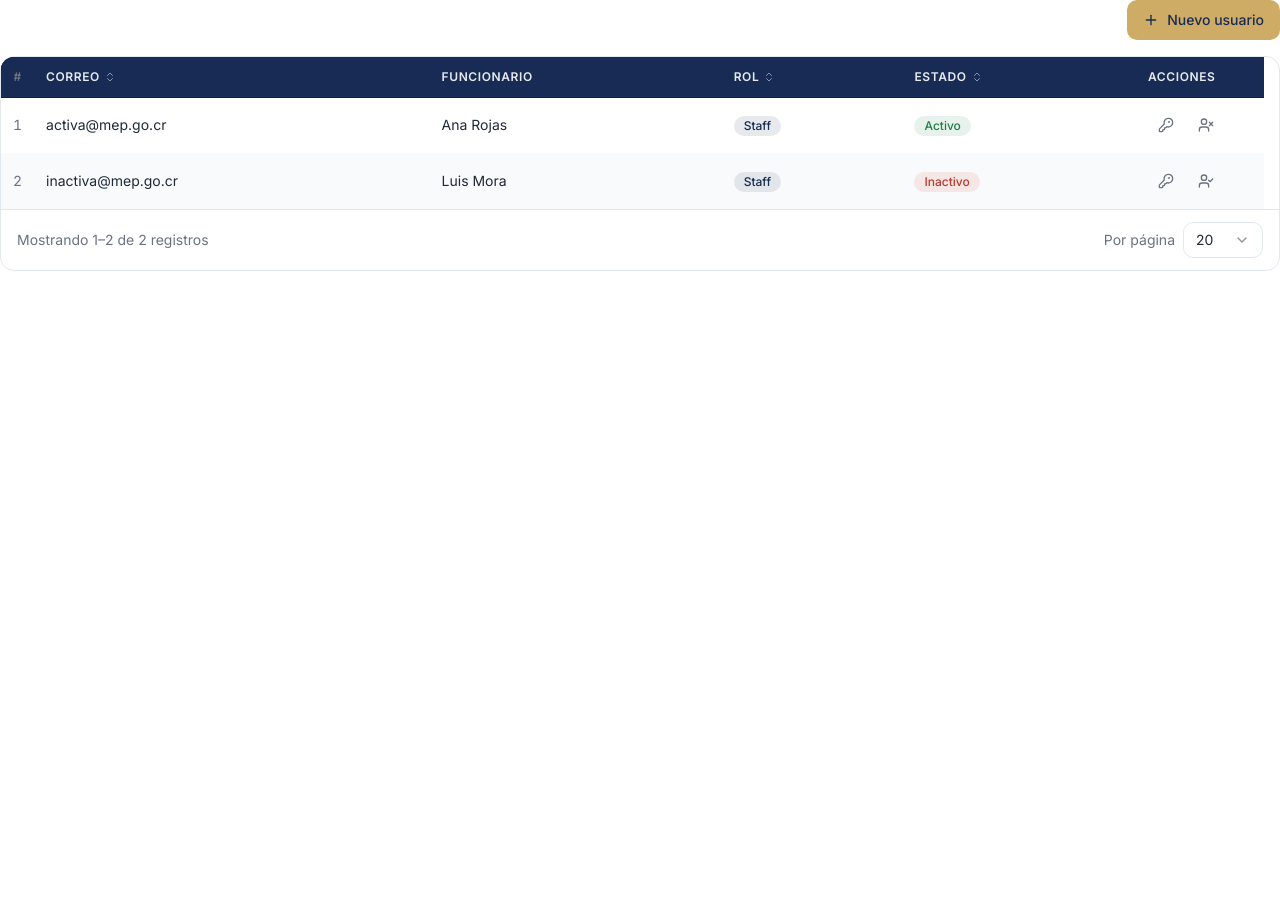
Test: Pantalla de usuarios — restablecer contraseña › muestra en el modal el error de la API
The image size is (1280, 900).
Click the button named "Restablecer contraseña" in the row of "Ana Rojas": point(1166, 125) [1148, 107, 1184, 143]
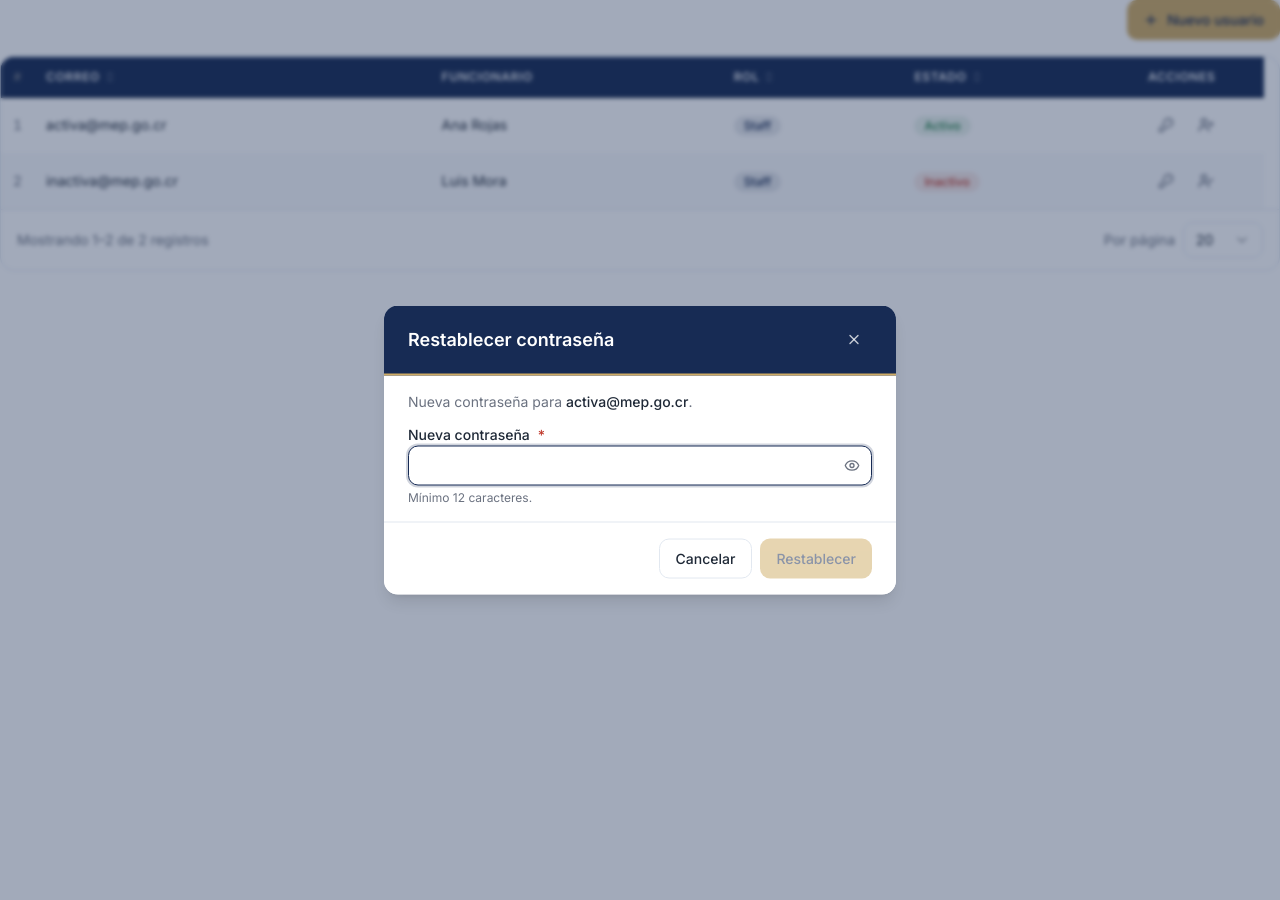
In the password field labelled "Nueva contraseña *": point(640, 466) [408, 446, 872, 486], type "corta"
Then press Enter
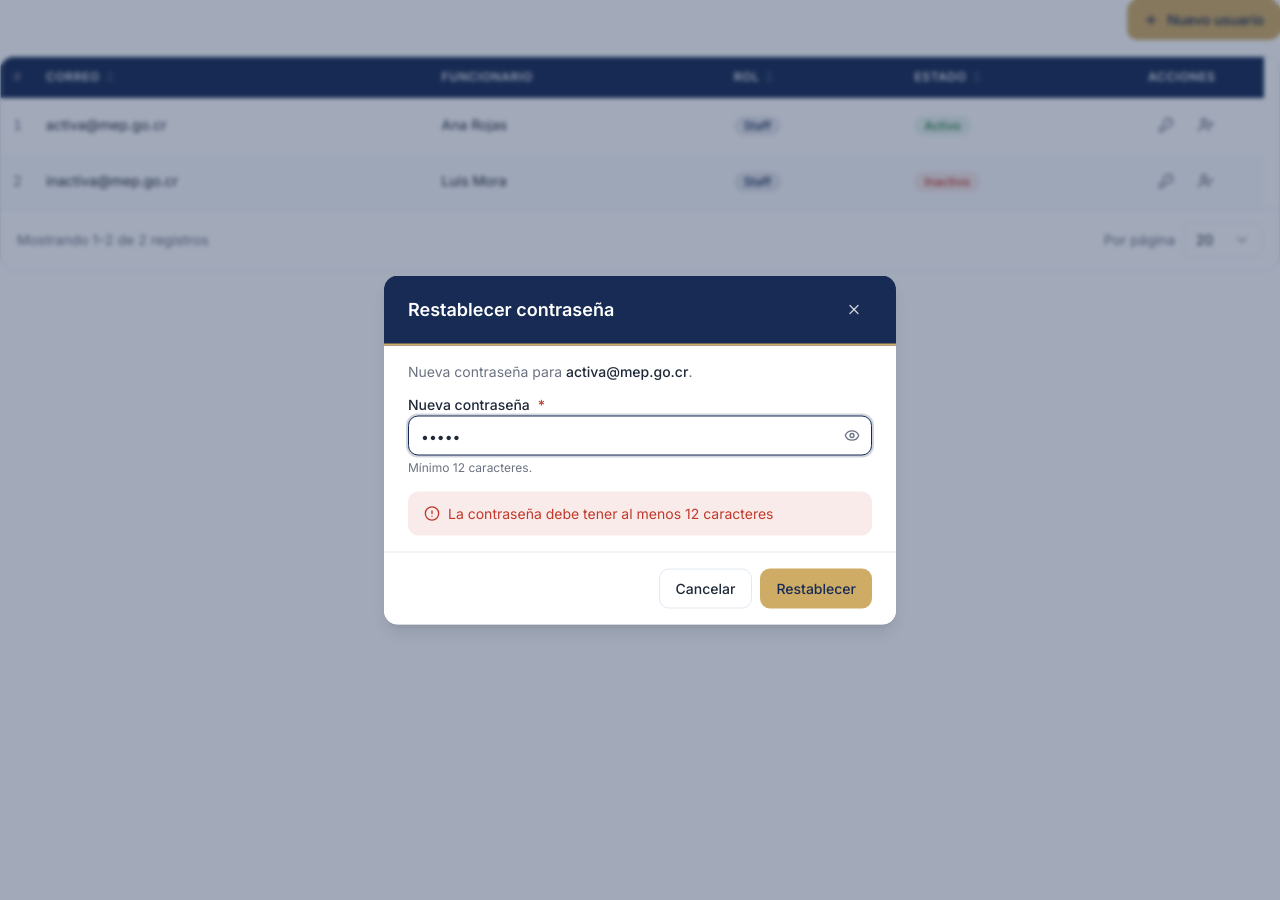
Expected: the text "La contraseña debe tener al menos 12 caracteres" is shown, [448, 504, 774, 524]
